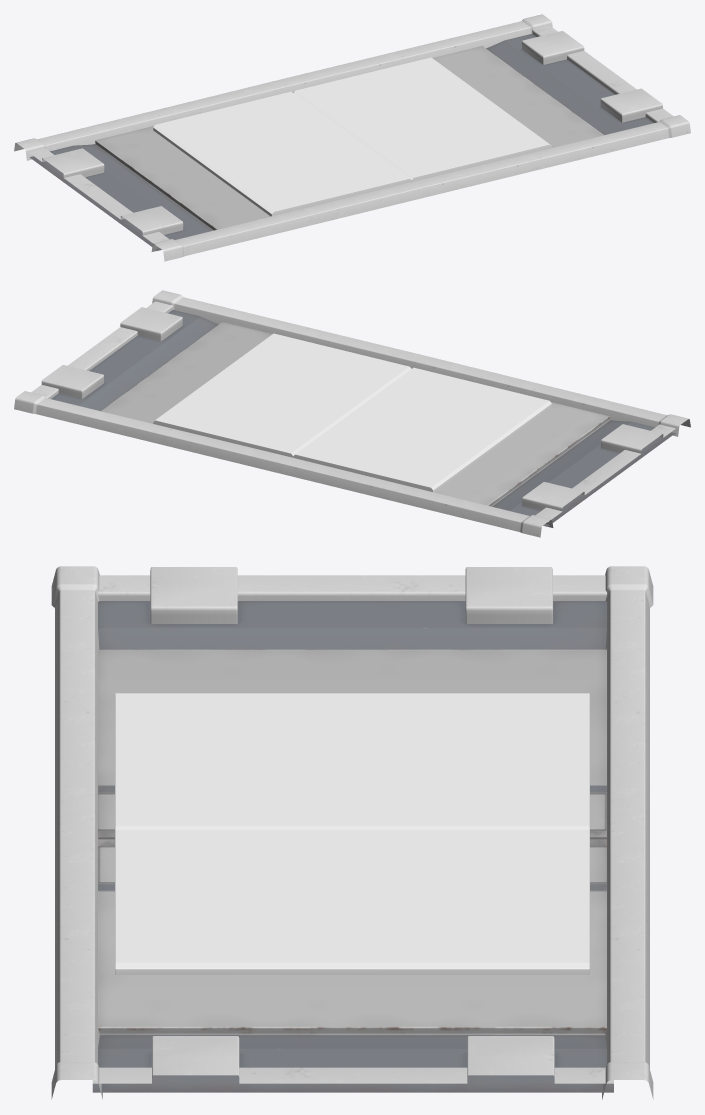
The model's file is Door.fbx.
3 views of the same model, one above another, from view 1: azimuth 30°, elevation 25°; view 2: azimuth 150°, elevation 25°; view 3: azimuth 270°, elevation 25° (orthographic). The views are drawn at different scales.
Visible parts, largest first — view 1: Pfb_JLABWall3_1, Pfb_JLABWall3, Cube_1, Cube; view 2: Pfb_JLABWall3_1, Pfb_JLABWall3, Cube_1, Cube; view 3: Pfb_JLABWall3, Pfb_JLABWall3_1, Cube, Cube_1.
Boxes of the visible parts, left/top/right/bottom form: Pfb_JLABWall3_1: left=280, top=14, right=690, bottom=196; Pfb_JLABWall3: left=14, top=80, right=426, bottom=261; Cube_1: left=153, top=91, right=411, bottom=216; Cube: left=293, top=57, right=551, bottom=181; Pfb_JLABWall3_1: left=14, top=290, right=424, bottom=472; Pfb_JLABWall3: left=278, top=356, right=690, bottom=537; Cube_1: left=293, top=367, right=551, bottom=492; Cube: left=153, top=333, right=411, bottom=457; Pfb_JLABWall3: left=51, top=566, right=653, bottom=843; Pfb_JLABWall3_1: left=51, top=825, right=653, bottom=1099; Cube: left=115, top=830, right=589, bottom=974; Cube_1: left=115, top=693, right=589, bottom=829.
Bounding box in the file's own units: 31.94 × 1.04 × 15.81.
